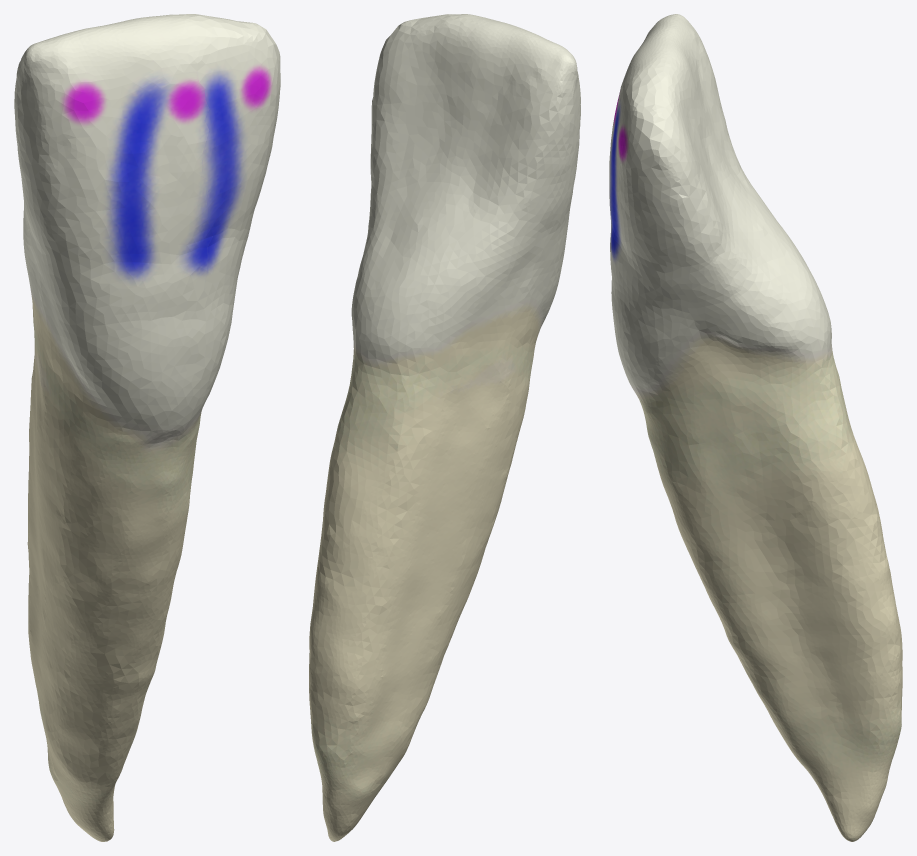
File: 32 - incisivo lateral inferior esquerdo - face vestibular.glb
3 views of the same model, side by side, from view 1: azimuth 30°, elevation 25°; view 2: azimuth 150°, elevation 25°; view 3: azimuth 270°, elevation 25° (orthographic). The views are drawn at different scales.
Parts seen in each view (by area): view 1: 3MFMeshParent_0; view 2: 3MFMeshParent_0; view 3: 3MFMeshParent_0.
Boxes of the visible parts, left/top/right/bottom form: 3MFMeshParent_0: left=14, top=14, right=280, bottom=841; 3MFMeshParent_0: left=309, top=14, right=580, bottom=841; 3MFMeshParent_0: left=609, top=14, right=902, bottom=841.
Bounding box in the file's own units: 0.1394 × 0.5037 × 0.1755.
Materials: 1 (1 with a texture image).
